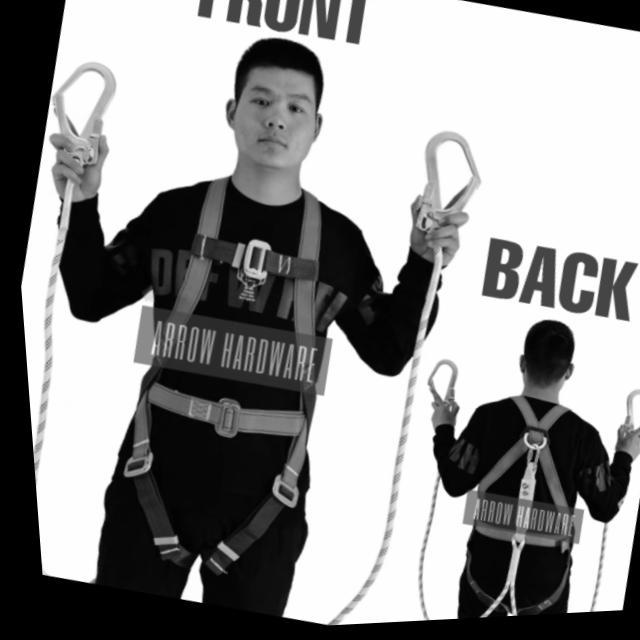belt: (72, 156, 375, 599), (427, 388, 605, 624)
